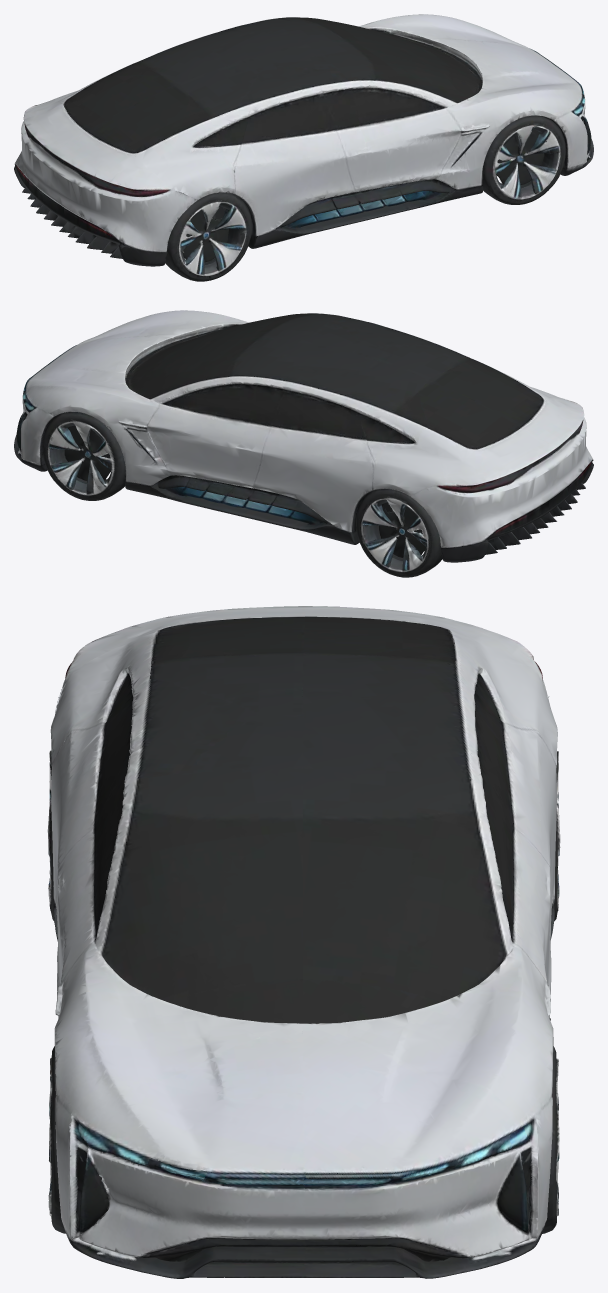
3 views of the same model, one above another, from view 1: azimuth 30°, elevation 25°; view 2: azimuth 150°, elevation 25°; view 3: azimuth 270°, elevation 25° (orthographic). The views are drawn at different scales.
Parts seen in each view (by area): view 1: tripo_node_132ce993-ec63-4ec4-a5e5-c6be29e7c0bb; view 2: tripo_node_132ce993-ec63-4ec4-a5e5-c6be29e7c0bb; view 3: tripo_node_132ce993-ec63-4ec4-a5e5-c6be29e7c0bb.
Part boxes in pixels (left/top/right/bottom): tripo_node_132ce993-ec63-4ec4-a5e5-c6be29e7c0bb: left=14, top=14, right=593, bottom=281; tripo_node_132ce993-ec63-4ec4-a5e5-c6be29e7c0bb: left=14, top=310, right=593, bottom=577; tripo_node_132ce993-ec63-4ec4-a5e5-c6be29e7c0bb: left=47, top=606, right=560, bottom=1278.
Size of the model in its own units: 0.9998 by 0.2888 by 0.434.
1 material, 1 textured.
